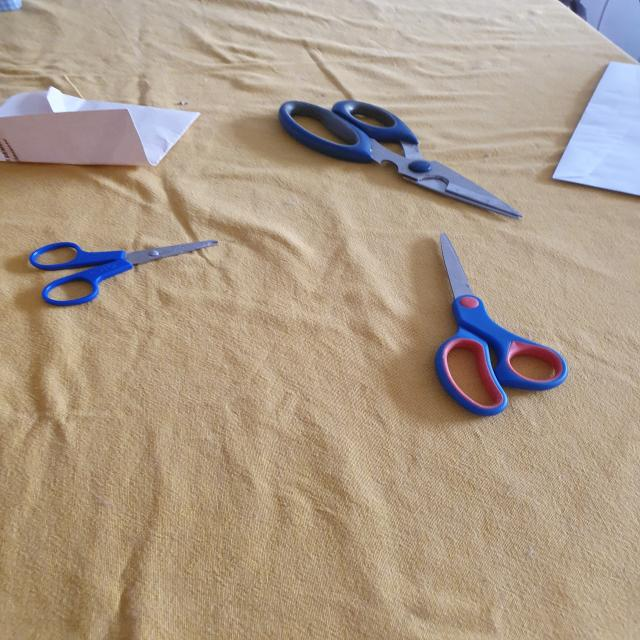scissors: (280, 99, 525, 221), (430, 225, 572, 422), (26, 234, 227, 305)
